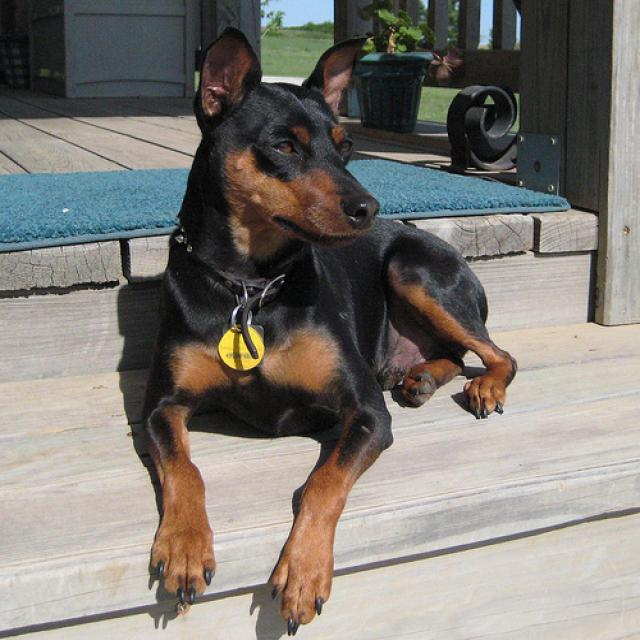dog-miniature_pinscher: (132, 22, 536, 637)
